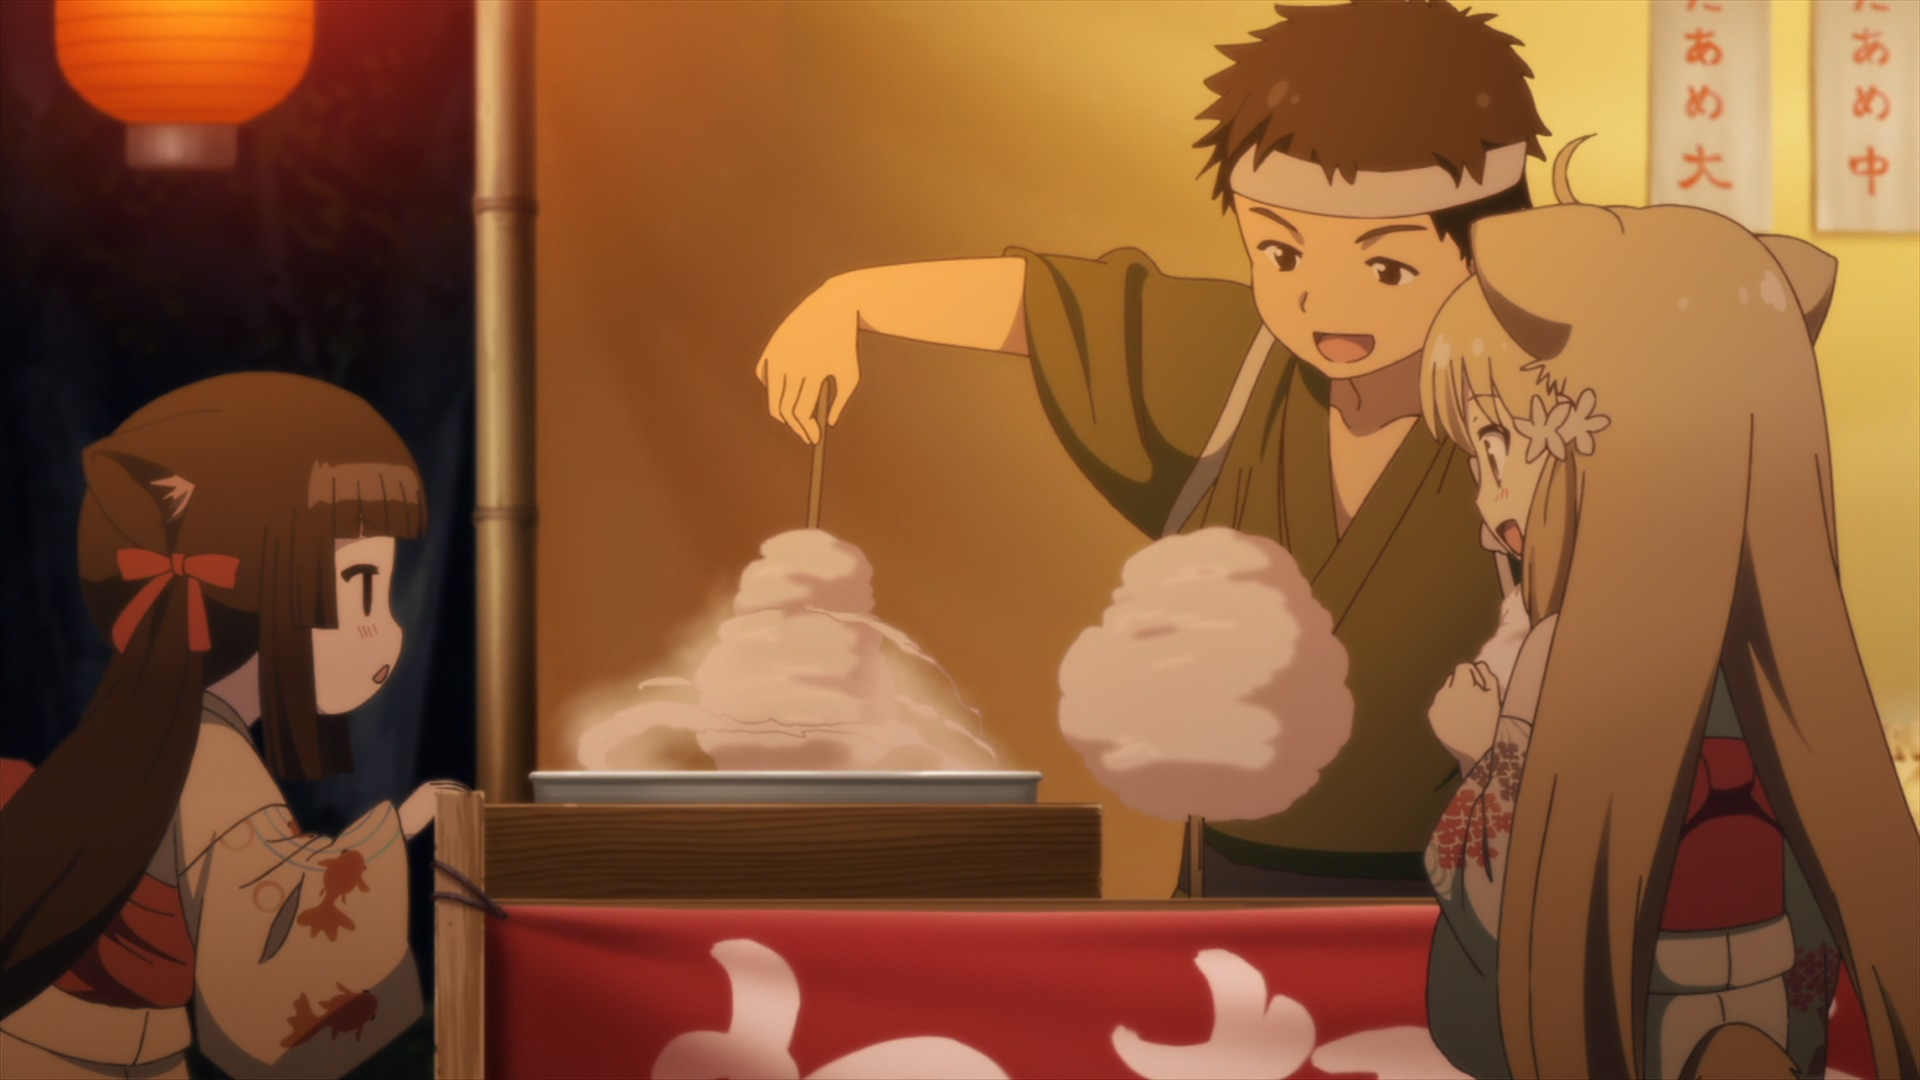其他: (754, 1, 1552, 897)
柚: (1420, 132, 1920, 1080)
樱: (1, 371, 465, 1080)
